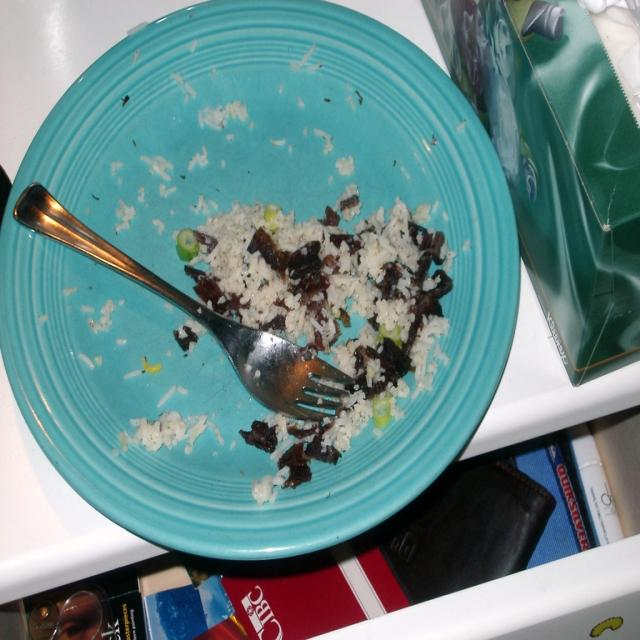non-organic waste: (0, 0, 541, 577)
